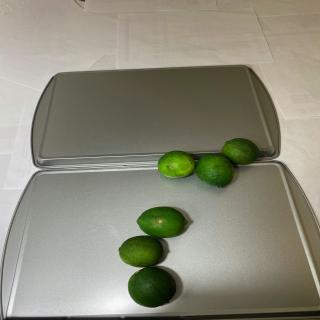Lemon: (128, 266, 176, 308), (136, 206, 188, 238), (118, 235, 164, 268), (195, 154, 235, 188), (157, 150, 195, 178), (222, 138, 260, 166)
